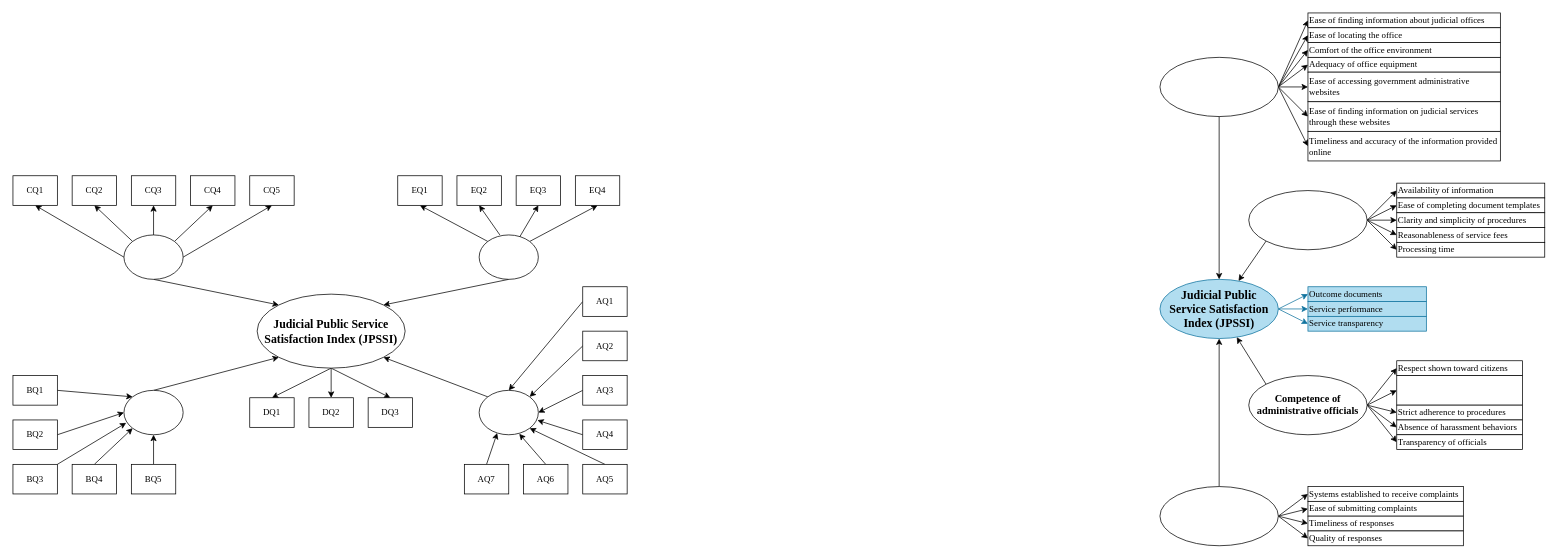
Some shapes in this 1558 by 559 pixel diagram are drawn without their labels. The box of each missing label's shape, as (x1, y1, x2, y2) in pixels:
Access: (478, 390, 538, 435)
Access to judicial public services: (1159, 57, 1278, 117)
Handling of complaints: (1159, 486, 1278, 546)
Knowledge and attentiveness in addressing questions: (1396, 375, 1523, 405)
Officials: (123, 234, 183, 279)
Regulation: (123, 390, 183, 435)
Regulations governing service procedures: (1248, 190, 1367, 250)
Responses: (478, 234, 538, 279)
